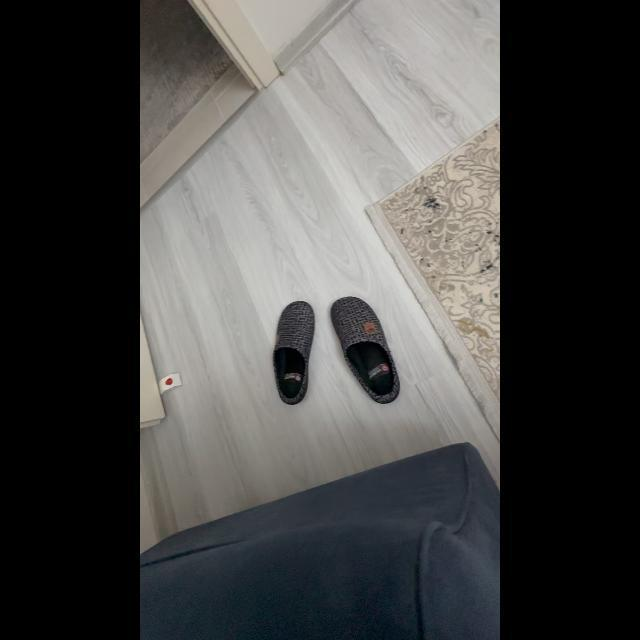slipper: (327, 292, 411, 408), (270, 292, 324, 404)
